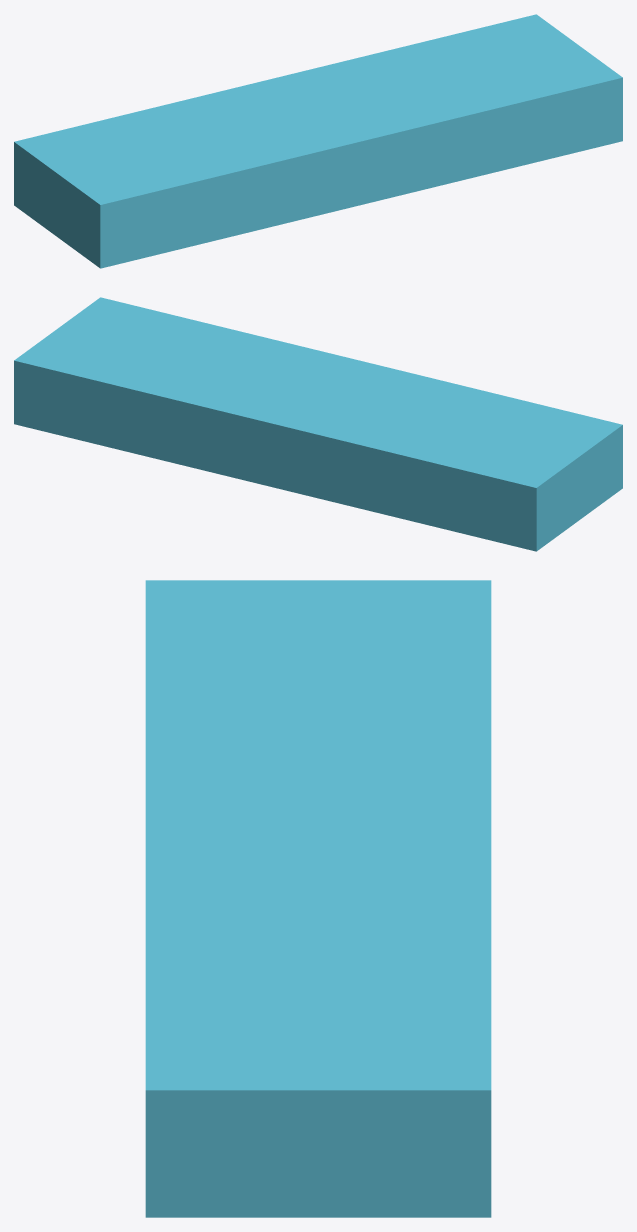
File: bedblue.fbx
3 views of the same model, one above another, from view 1: azimuth 30°, elevation 25°; view 2: azimuth 150°, elevation 25°; view 3: azimuth 270°, elevation 25° (orthographic). The views are drawn at different scales.
Parts seen in each view (by area): view 1: Cube.007; view 2: Cube.007; view 3: Cube.007.
Part boxes in pixels (x1,y1,x2,y2): Cube.007: [14, 14, 622, 268]; Cube.007: [14, 297, 622, 551]; Cube.007: [145, 580, 491, 1217].
Bounding box in the file's own units: 830 × 96.49 × 238.
